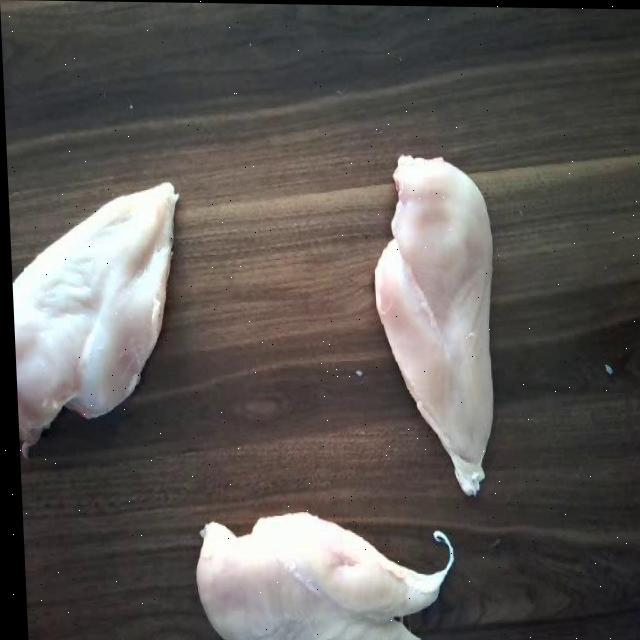breast: (368, 152, 508, 485), (11, 178, 178, 448), (192, 511, 461, 640)
